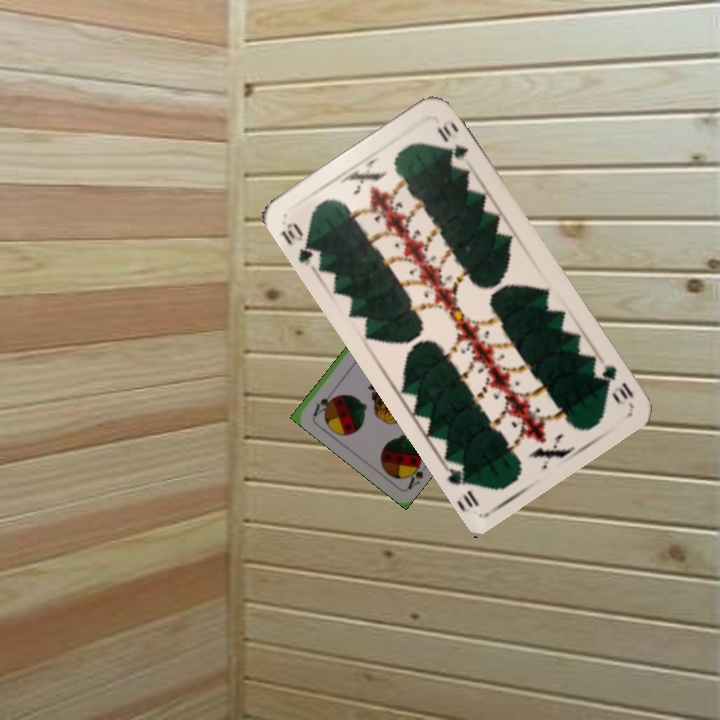G10: (277, 218, 324, 271), (597, 361, 637, 403)
SA: (400, 452, 426, 492)
